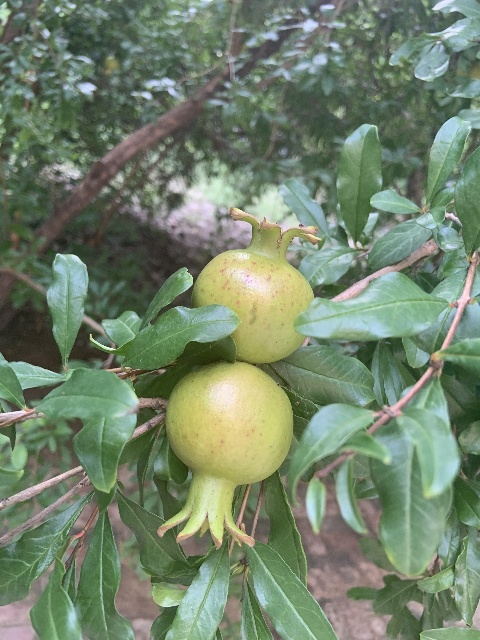mid-growth: (157, 360, 293, 551), (191, 206, 321, 363)
